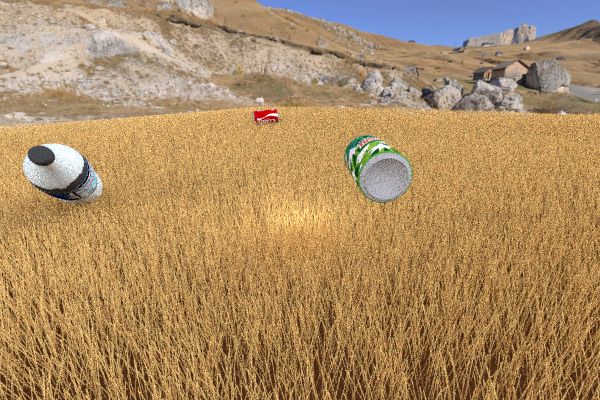bottle: (23, 143, 102, 205)
can: (344, 135, 412, 202), (252, 108, 278, 123)
